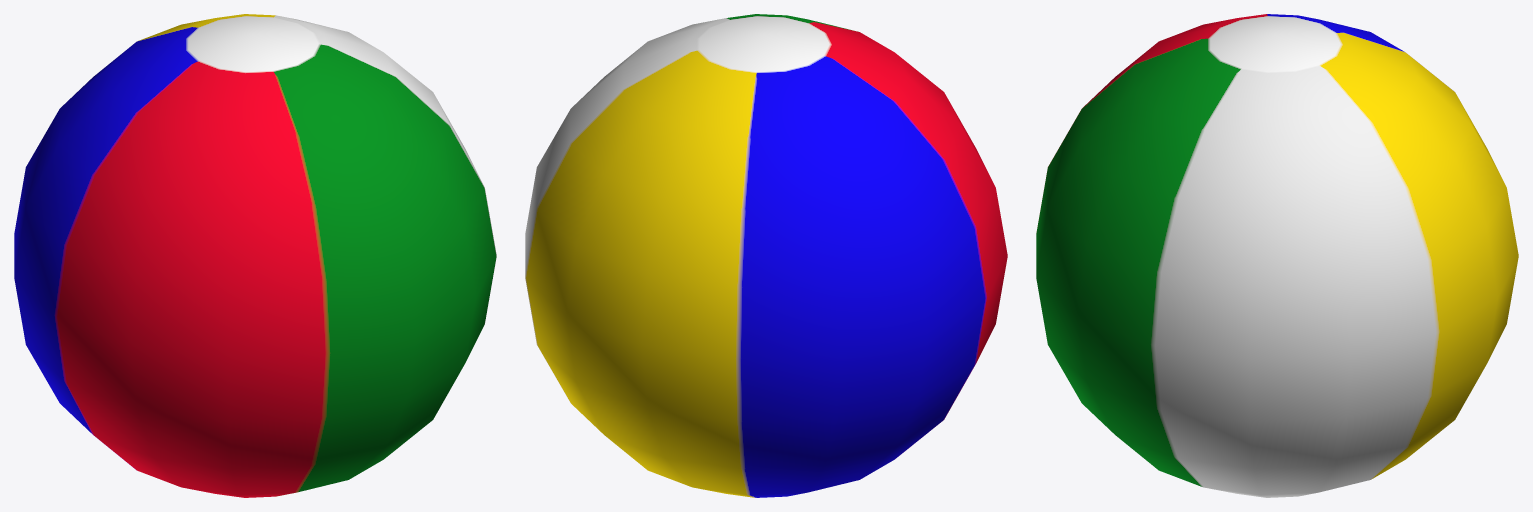
Rendered from beach_ball.fbx.
The picture shows the model from 3 angles, left to right: view 1: azimuth 30°, elevation 25°; view 2: azimuth 150°, elevation 25°; view 3: azimuth 270°, elevation 25°; orthographic projection.
Parts seen in each view (by area): view 1: Sphere; view 2: Sphere; view 3: Sphere.
Boxes of the visible parts, x1=… form: Sphere: x1=14, y1=14, x2=496, y2=497; Sphere: x1=525, y1=14, x2=1007, y2=497; Sphere: x1=1036, y1=14, x2=1518, y2=497.
Bounding box in the file's own units: 199 × 200 × 198.
